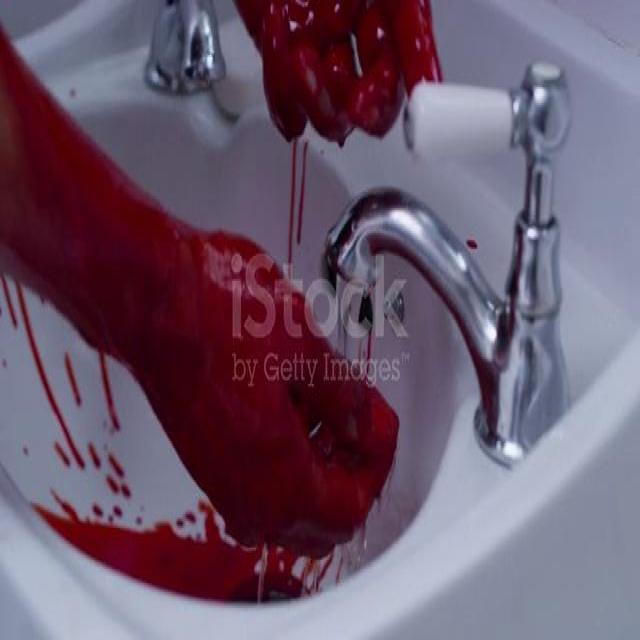flood: (1, 190, 399, 607), (231, 0, 454, 166)
